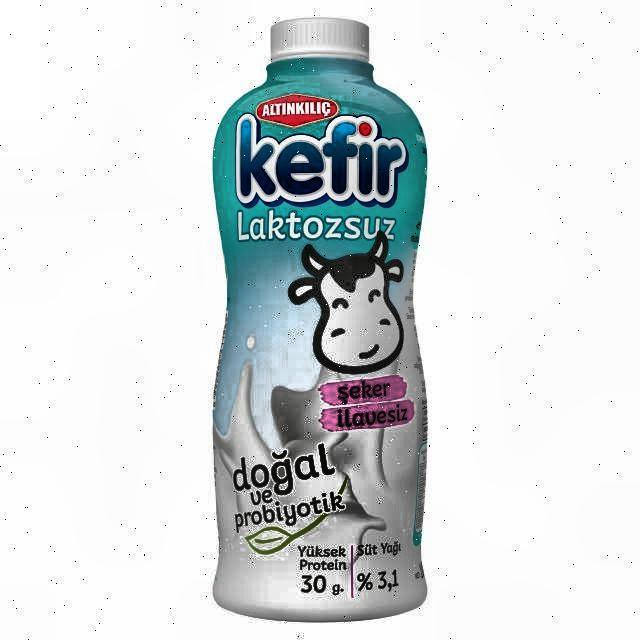plastic: (209, 15, 429, 626)
